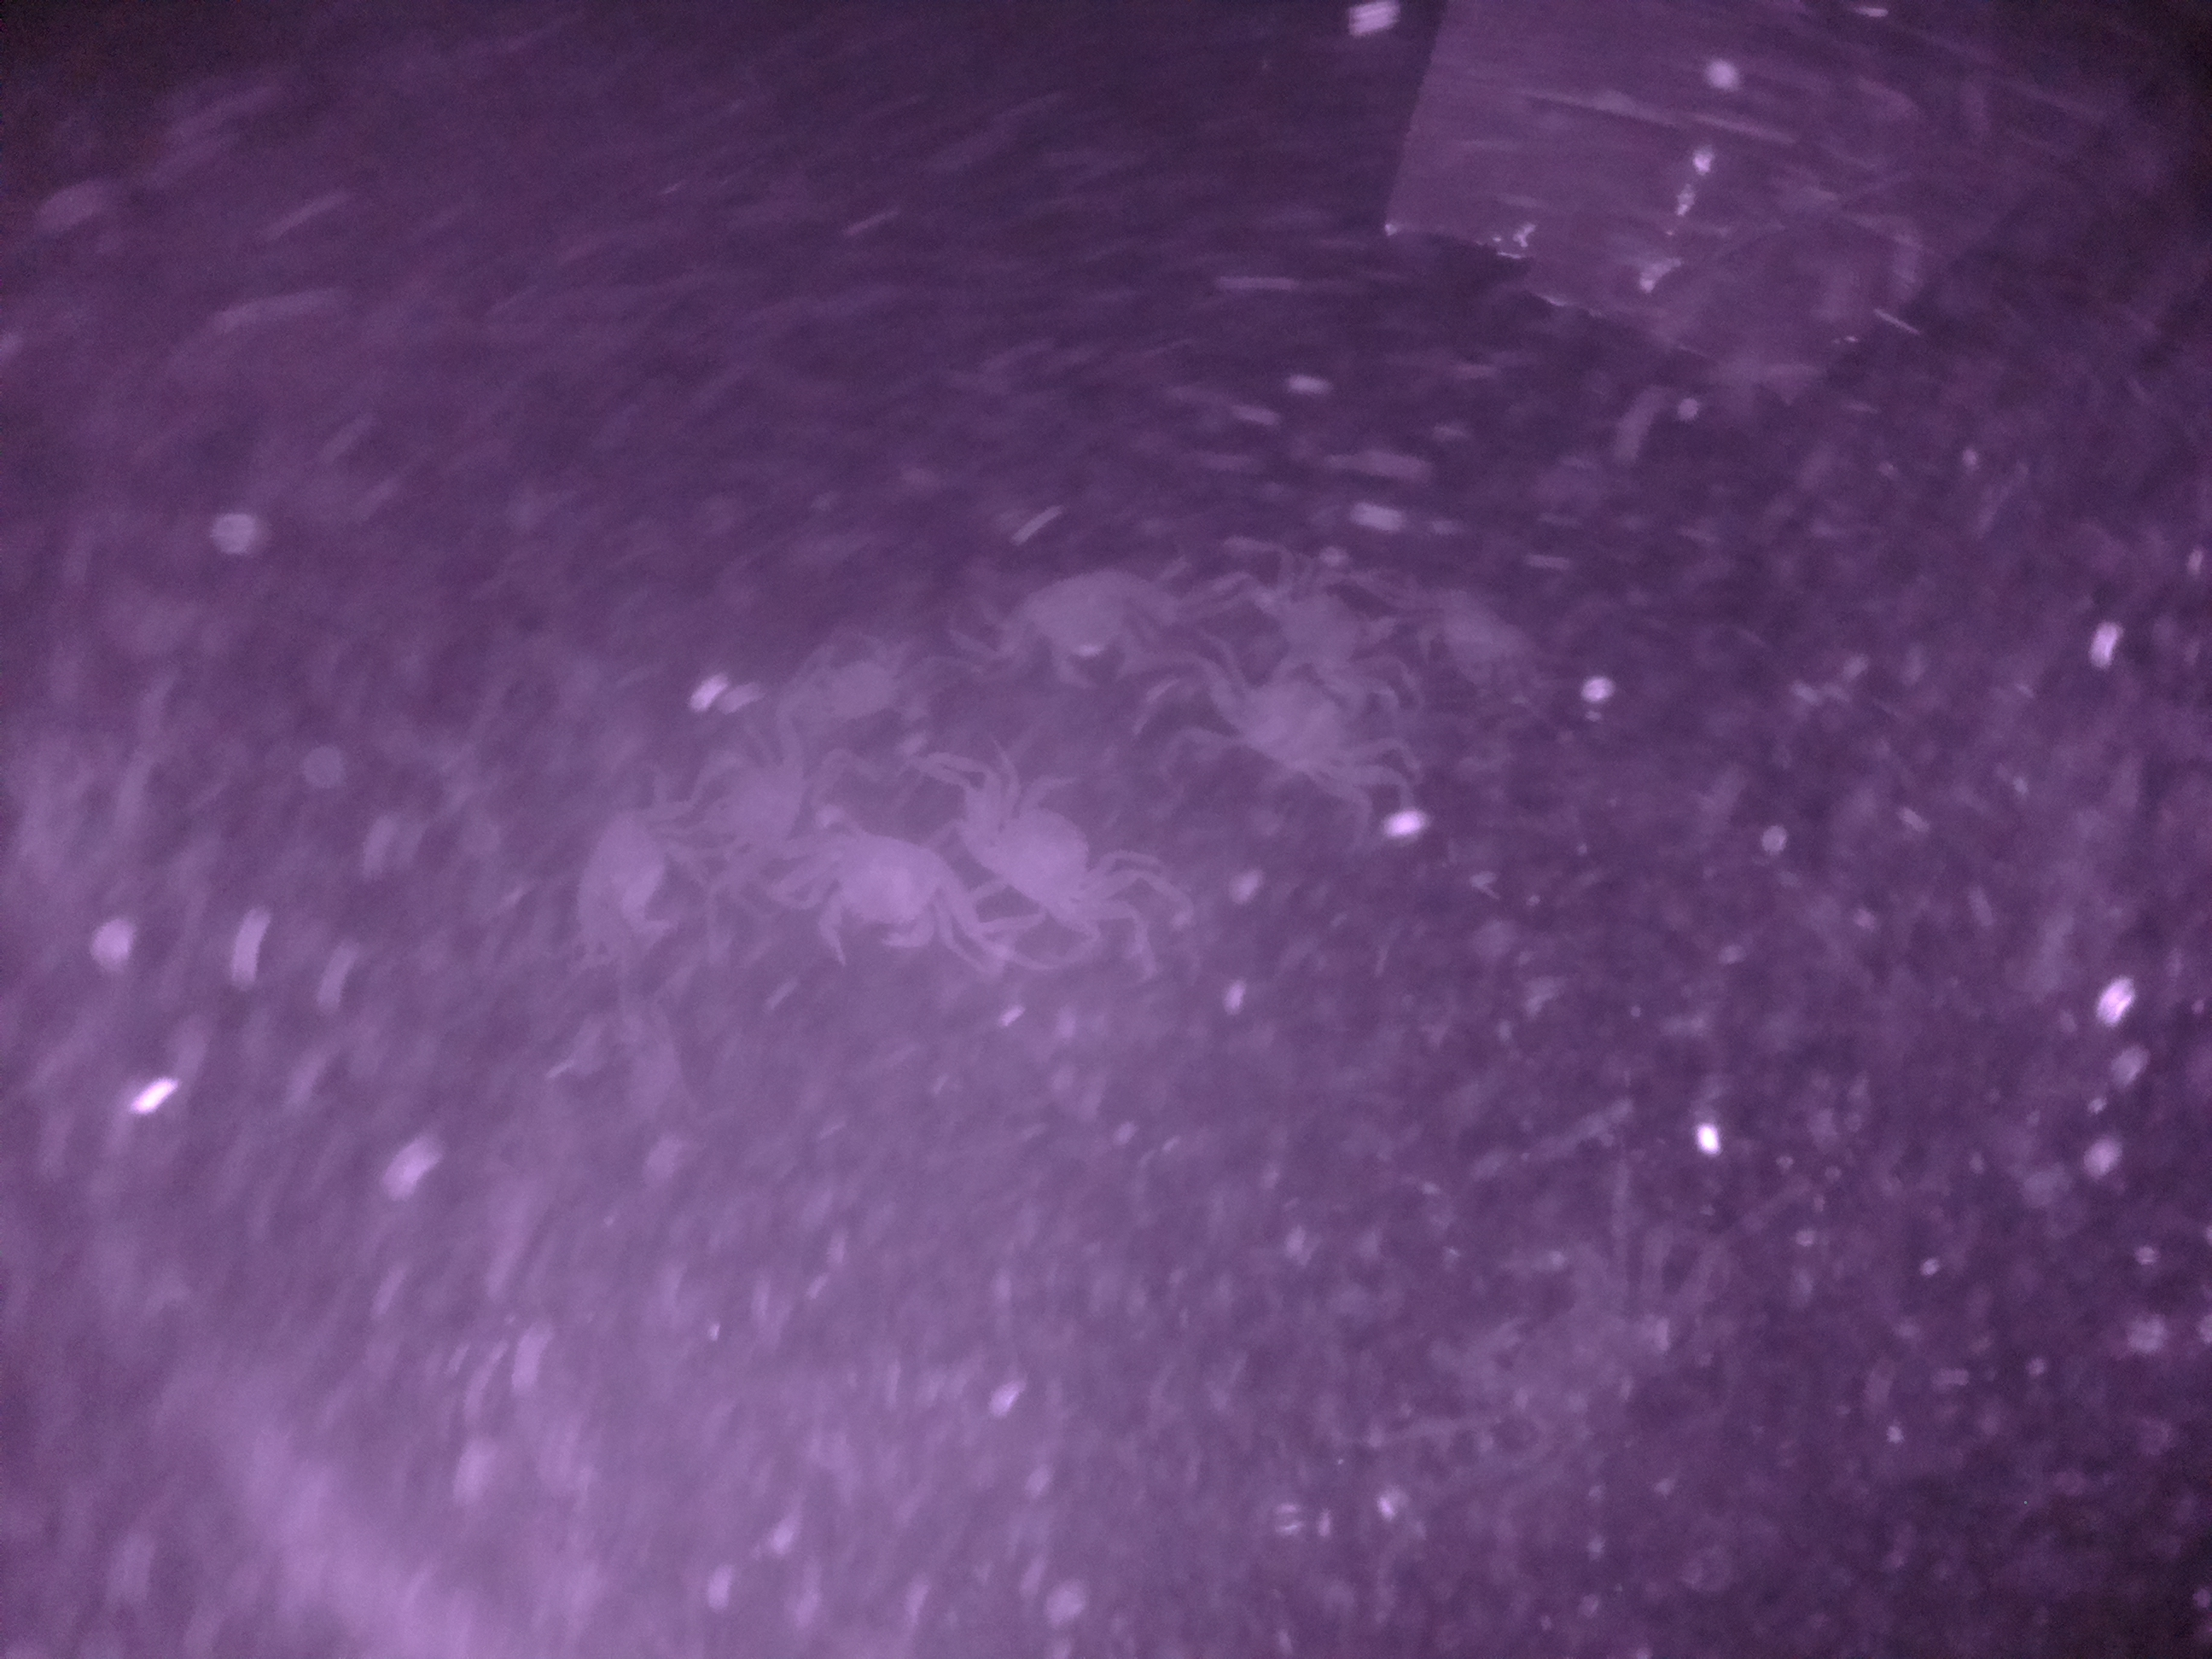Crab: (972, 741, 1146, 953), (794, 795, 981, 962), (1221, 640, 1395, 814)
